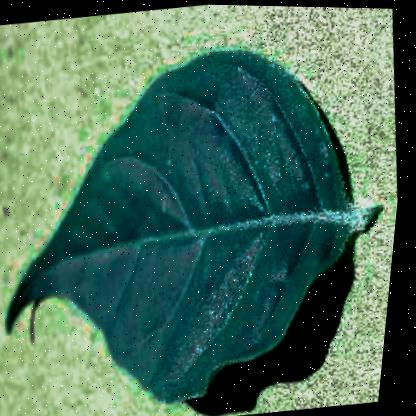Healthy: (0, 27, 413, 415)
